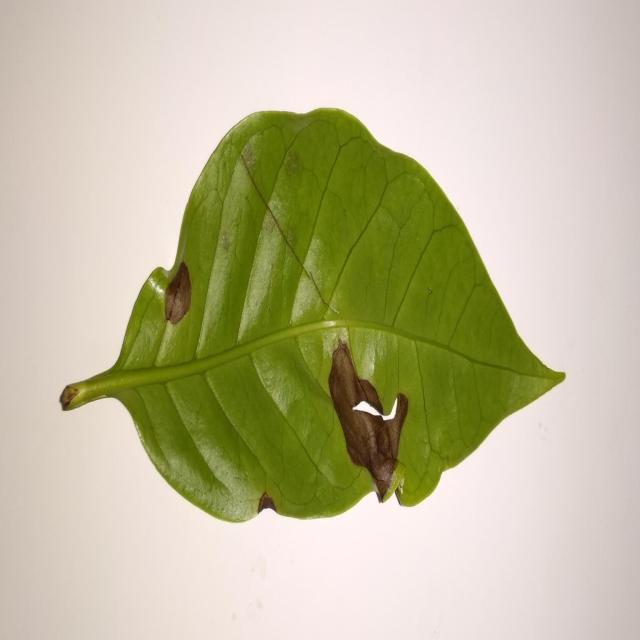Enfermedad-Antracnosis: (58, 108, 566, 526)
